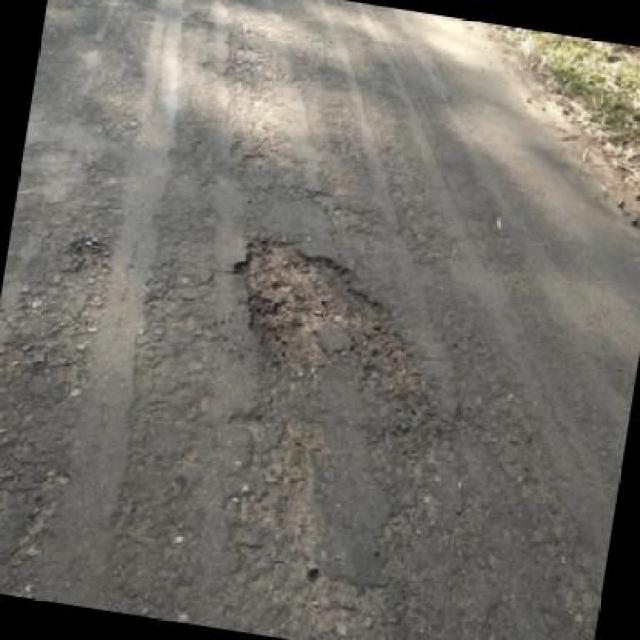pothole1: (213, 230, 425, 392), (60, 230, 115, 284)
